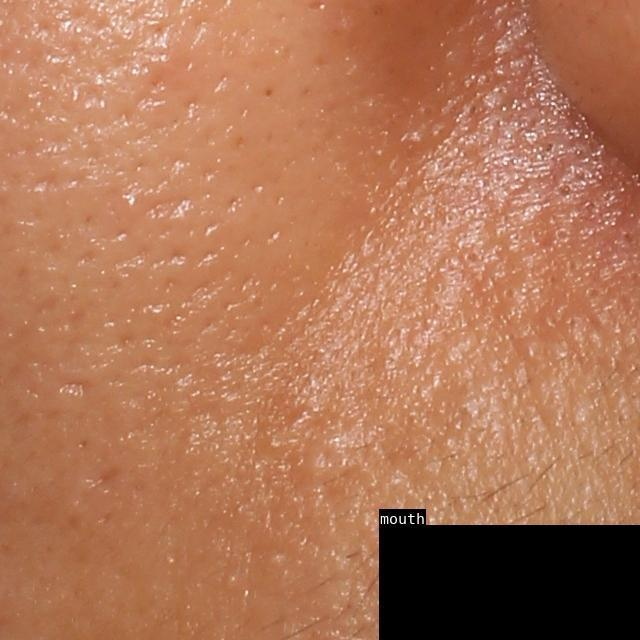atrophic_scar: (53, 380, 94, 399)
comedo: (550, 222, 577, 250), (461, 246, 487, 267), (498, 280, 521, 300)
